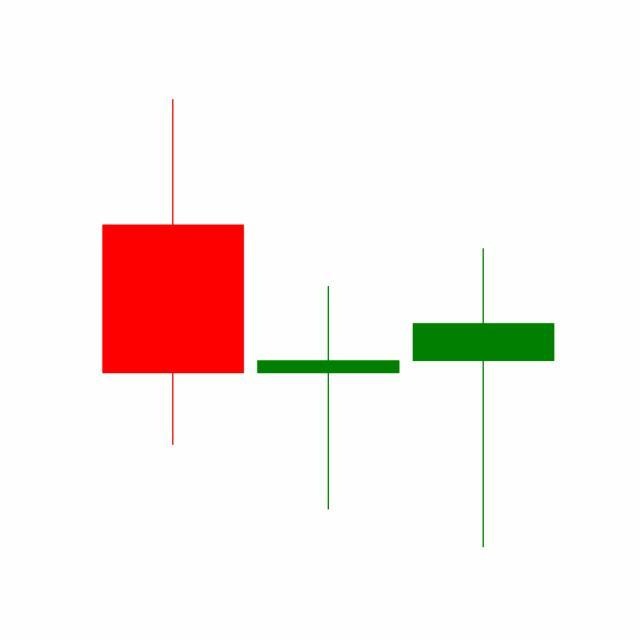Spinning Top: (250, 283, 407, 513)
